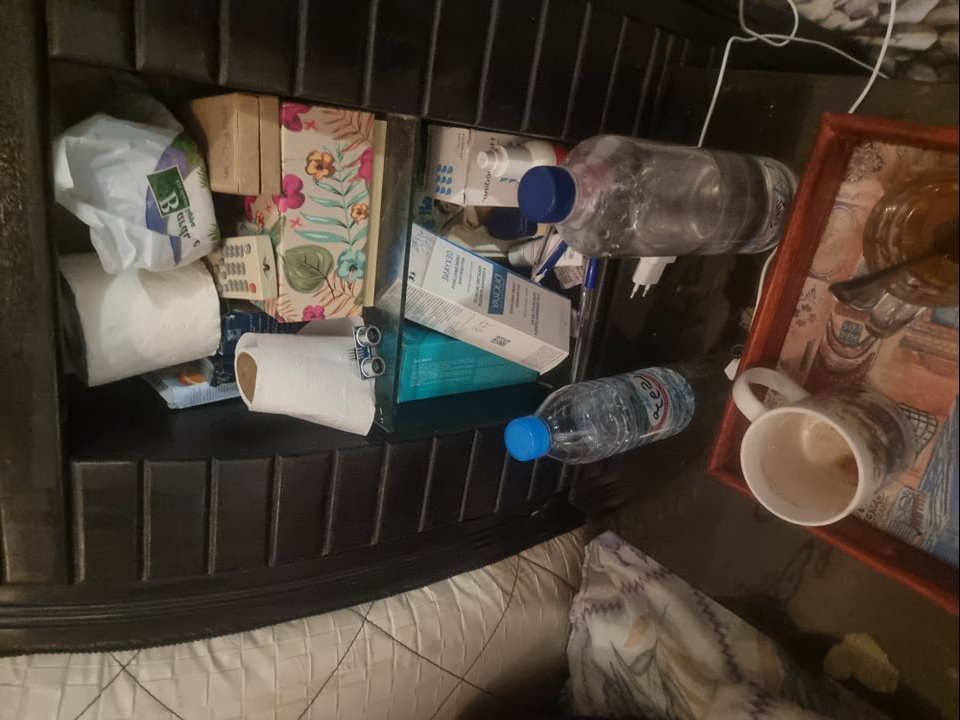SENSOR: (352, 324, 389, 380)
